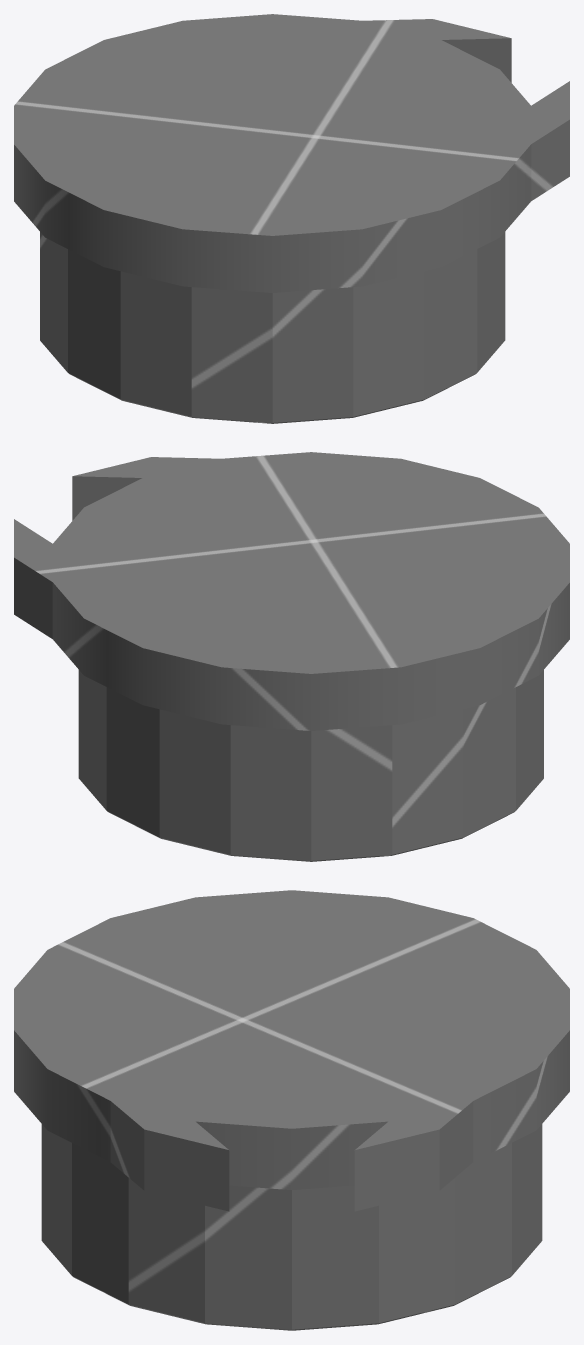
File: FSS-S2-ammunition-drum.obj
3 renders of one model, top to bottom at view 1: azimuth 30°, elevation 25°; view 2: azimuth 150°, elevation 25°; view 3: azimuth 270°, elevation 25°, orthographic. The views are drawn at different scales.
Visible parts, largest first — view 1: FSS-S2-ammunition-drum; view 2: FSS-S2-ammunition-drum; view 3: FSS-S2-ammunition-drum.
Boxes of the visible parts, x1,y1,x2,y2 form: FSS-S2-ammunition-drum: (14,14,569,423); FSS-S2-ammunition-drum: (14,452,569,861); FSS-S2-ammunition-drum: (14,890,569,1330).
Size of the model in its own units: 2.72 by 1.05 by 2.46.
